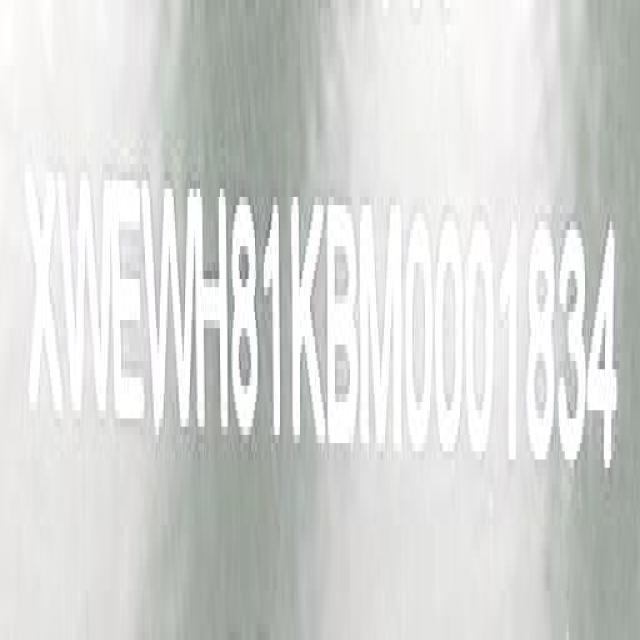0: (404, 213, 436, 471), (436, 209, 464, 462), (465, 210, 493, 463)
1: (501, 212, 524, 469), (261, 188, 283, 447)
3: (557, 220, 585, 473)
4: (588, 211, 619, 488)
8: (230, 189, 259, 451), (528, 216, 555, 468)
B: (327, 200, 360, 461)
E: (112, 174, 145, 446)
H: (195, 183, 228, 449)
K: (291, 191, 326, 447)
M: (361, 191, 403, 481)
W: (141, 182, 195, 450), (64, 171, 111, 441)
X: (29, 172, 65, 440)
